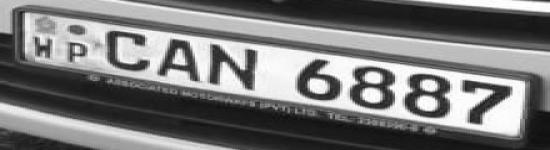1: (29, 36, 55, 61)
6: (279, 56, 344, 102)
7: (460, 79, 517, 128)
8: (396, 71, 460, 120), (343, 62, 398, 112)
A: (153, 35, 203, 83)
C: (98, 28, 154, 74)
N: (204, 42, 267, 90)
P: (62, 39, 90, 65)
